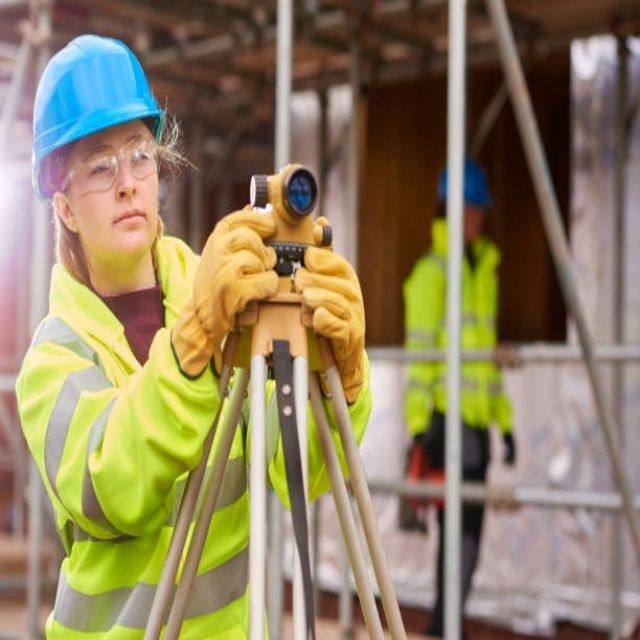Gafas: (56, 135, 162, 191)
Guantes: (170, 204, 278, 359), (296, 212, 370, 406)
Sin_mascara: (100, 201, 154, 254)
